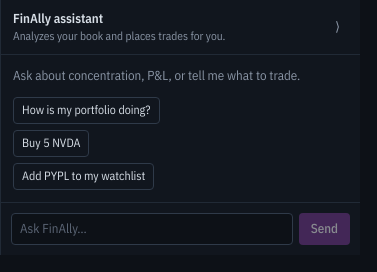
Test: ChatPanel › reports a failed send inline
Type "hello" into the field with test id "chat-input" at (152, 229), box [11,213,293,245]
Then press Enter
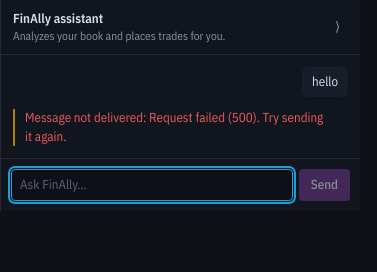
Now the text "Message not delivered" is shown, box [25,110,326,145]
